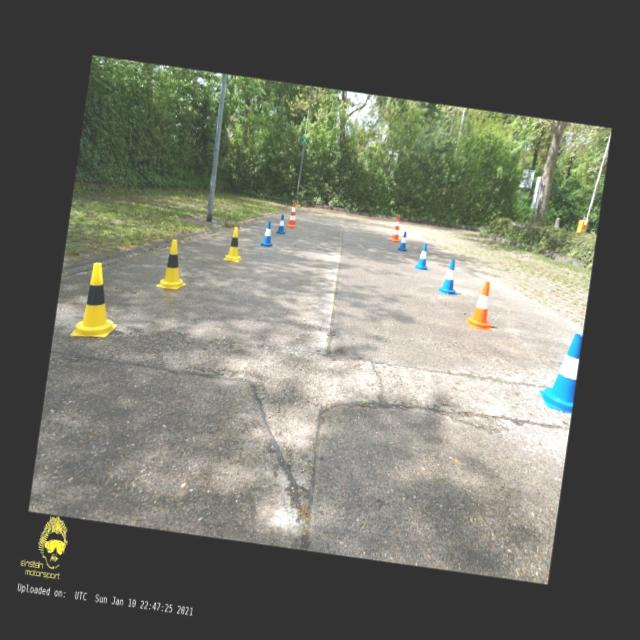blue_cone: (537, 330, 582, 414), (438, 258, 462, 296), (414, 242, 432, 270), (260, 220, 276, 248), (398, 230, 410, 252), (276, 214, 288, 235)
large_orange_cone: (389, 215, 404, 243), (286, 200, 300, 228)
orange_cone: (466, 280, 498, 332)
yellow_cone: (70, 260, 126, 342), (156, 238, 192, 290), (224, 225, 247, 262)
